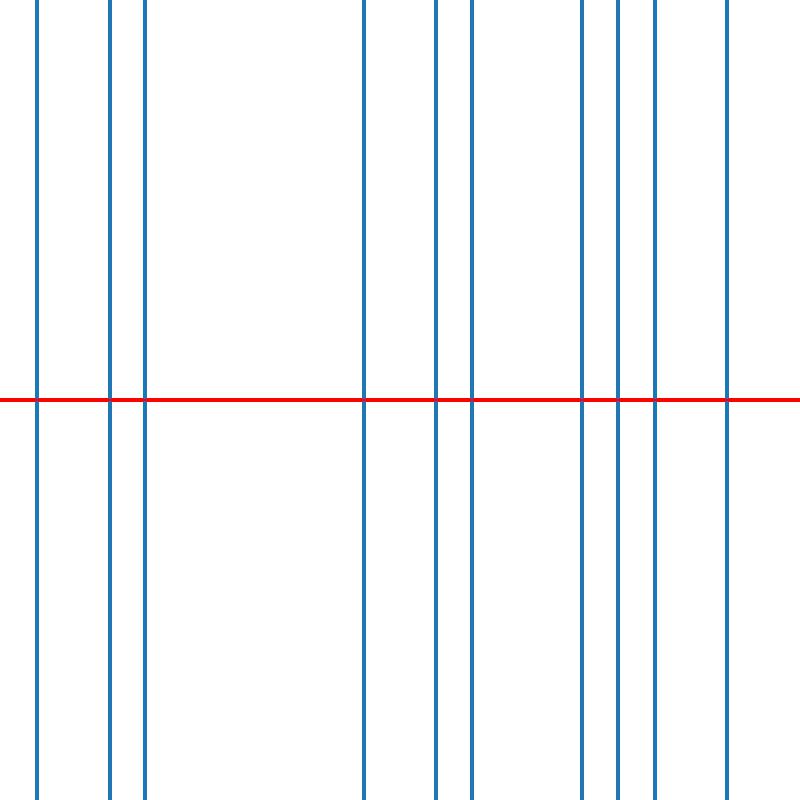root: (650, 396, 658, 404), (32, 396, 40, 404), (141, 396, 149, 404), (432, 396, 440, 404), (614, 396, 621, 404), (723, 396, 730, 404), (105, 396, 112, 404), (469, 396, 476, 404), (578, 396, 585, 404), (360, 396, 367, 404)
